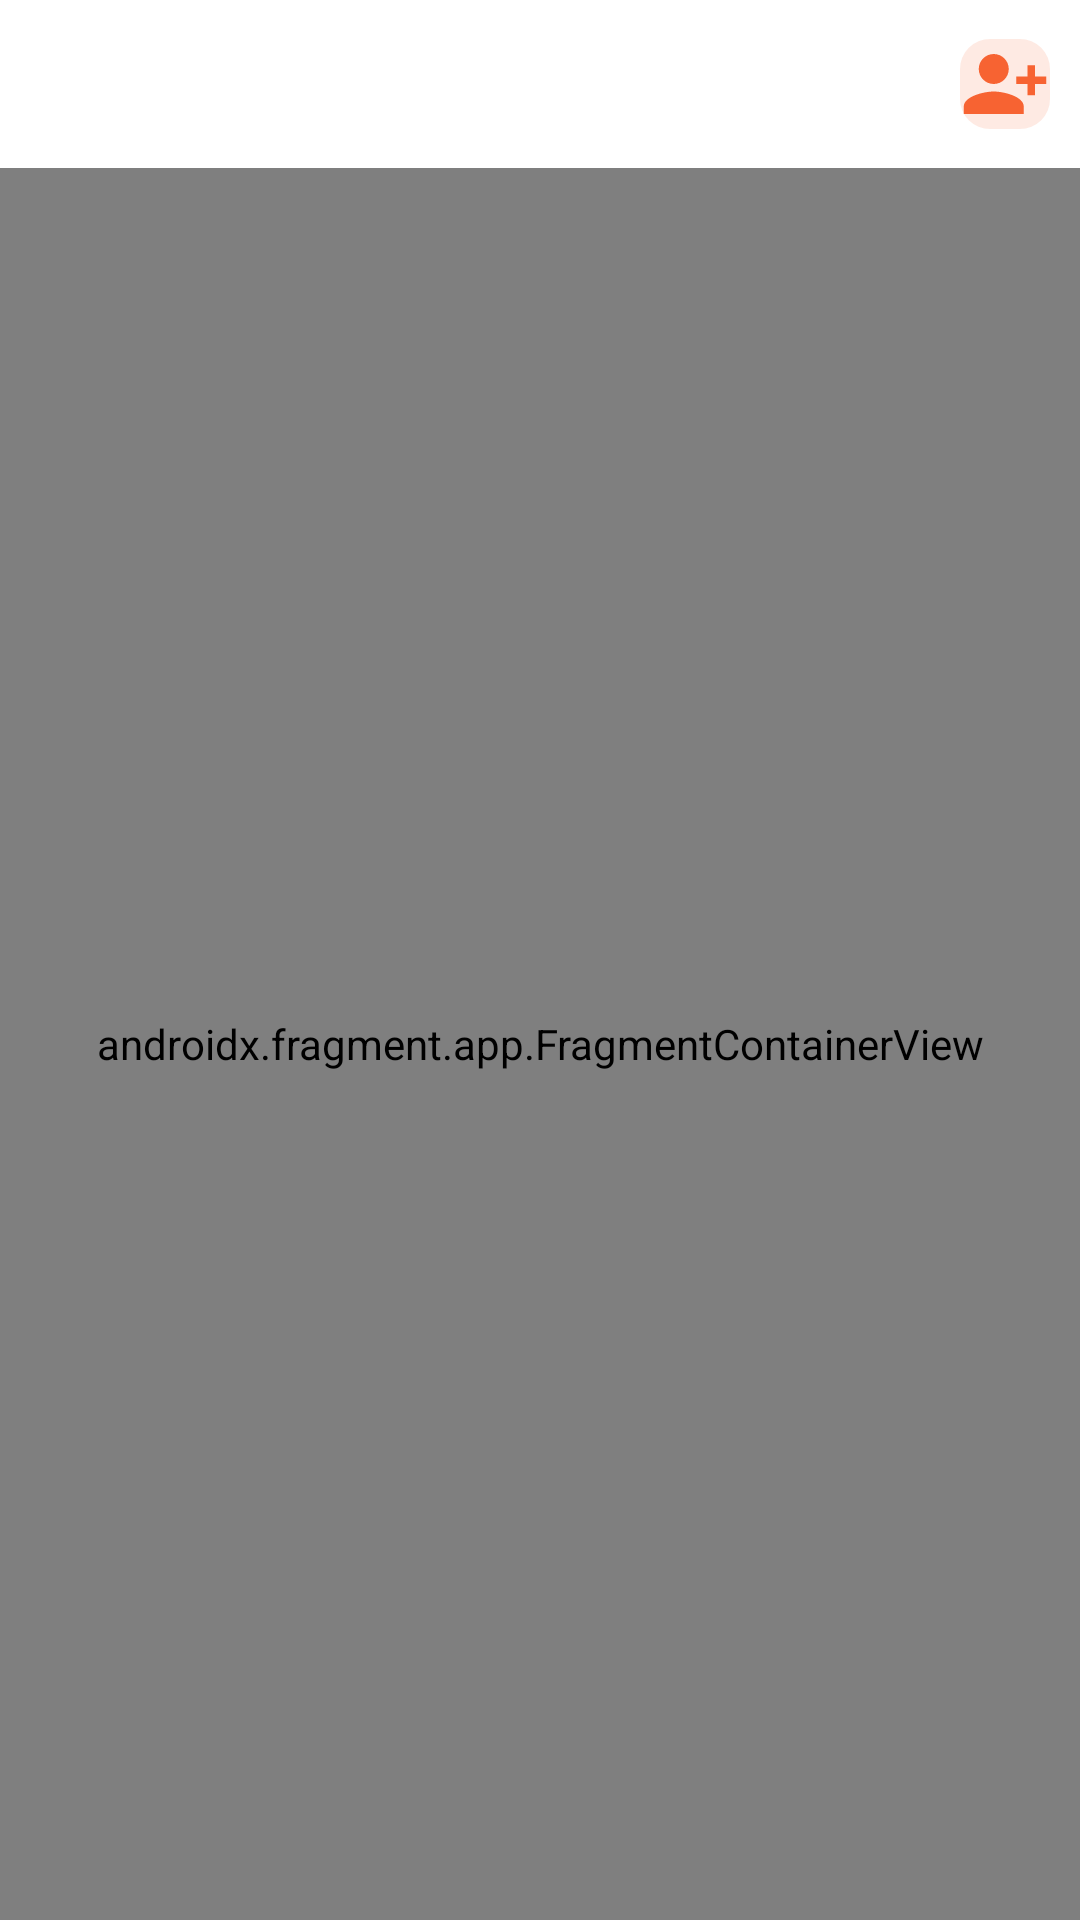

Locate icon controls on the screen. Image size 1080*1920, boxes as (x1, y1, x2, y2).
person add: (960, 39, 1050, 129)
